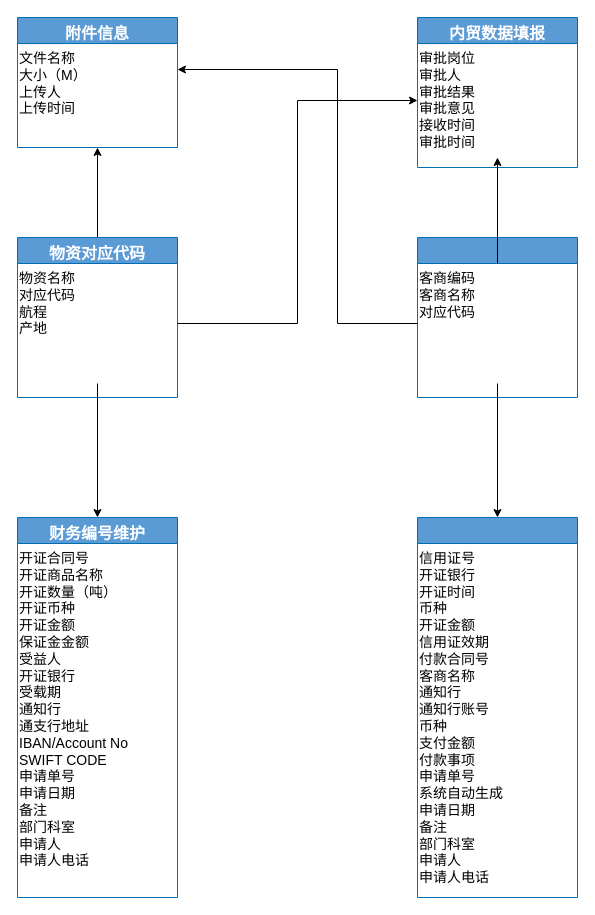
This 595x915 diagram has some shape labels left out. Each missing label, with the box of its shape:
外贸数据填报: (416, 516, 578, 898)
客商对应代码: (416, 236, 578, 398)
